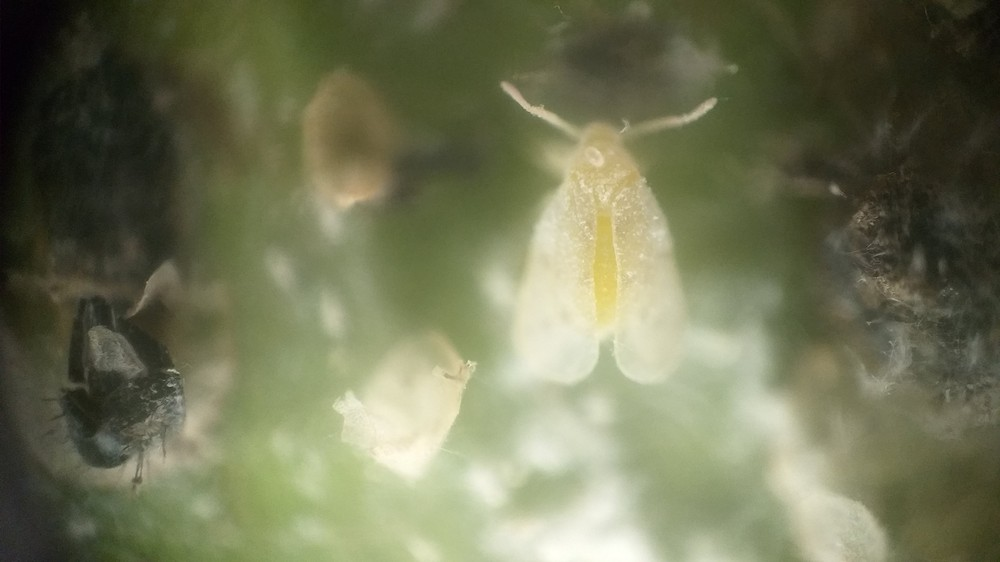Mosca Blanca: (448, 64, 728, 401)
